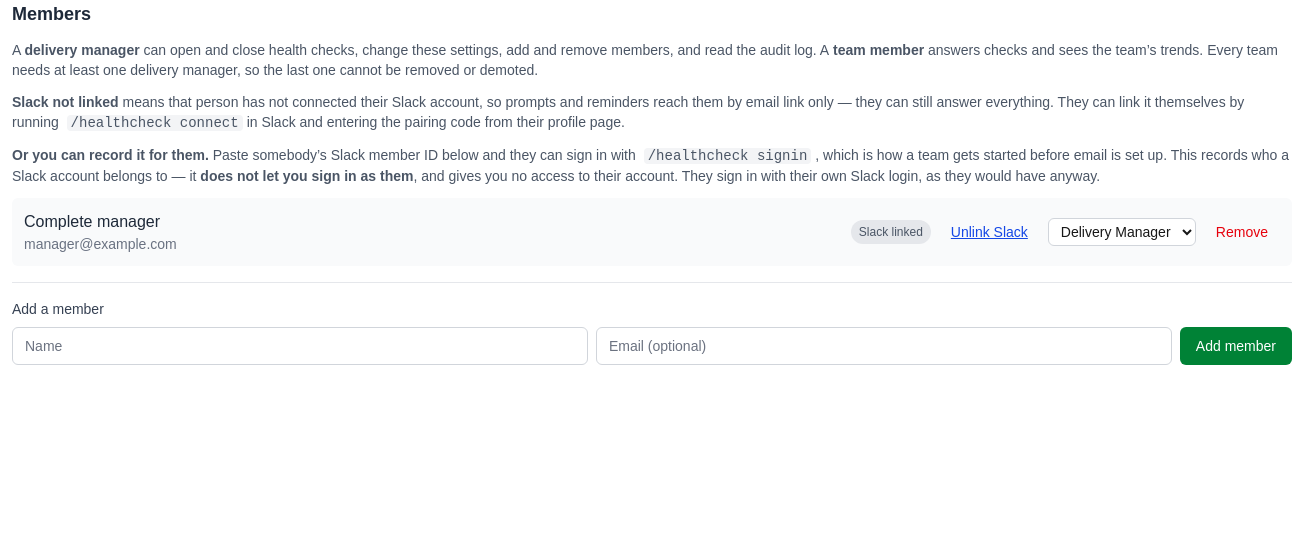
Test: MembersSection contract hardening › shows structured role and remove errors without changing members
Select "Team Member" in the dropdown: [1122, 232] box top-left (1048, 218), bottom-right (1196, 246)
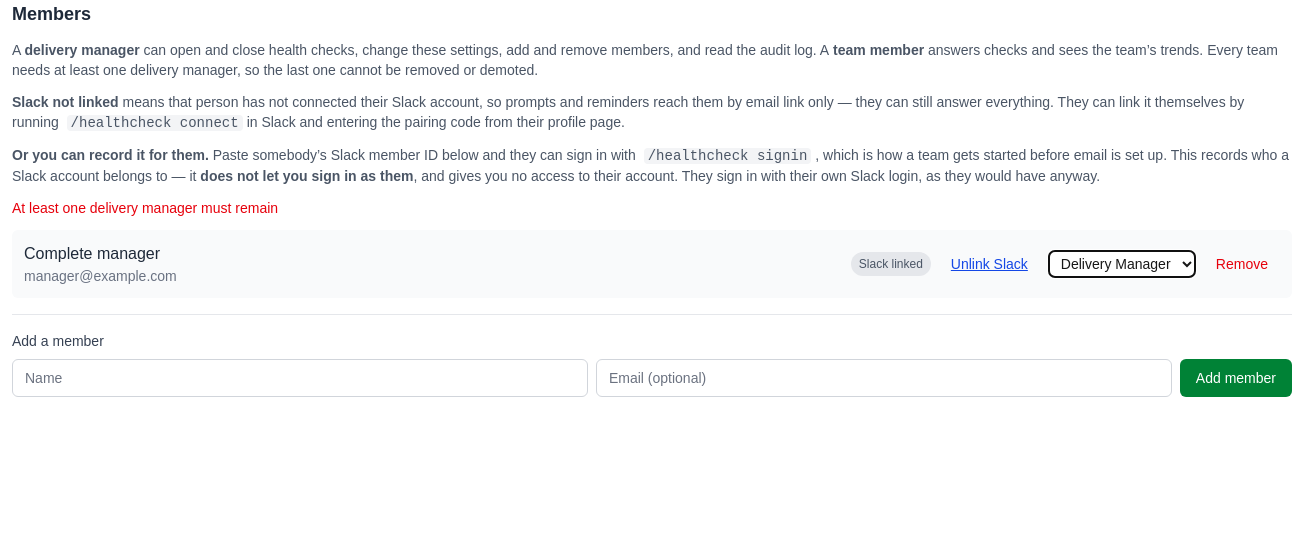
expect the message reads "At least one delivery manager must remain": met, box top-left (12, 200), bottom-right (278, 216)
Click the button "Remove": [1242, 264] box top-left (1204, 250), bottom-right (1280, 278)
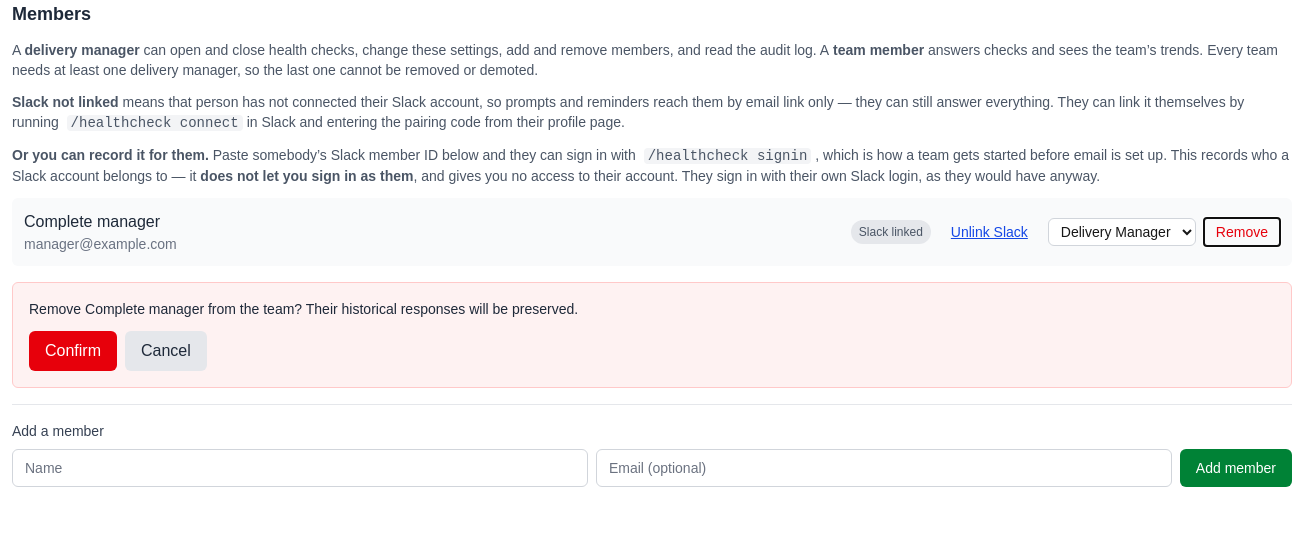
Click the button "Confirm": [73, 351] box top-left (29, 331), bottom-right (117, 371)
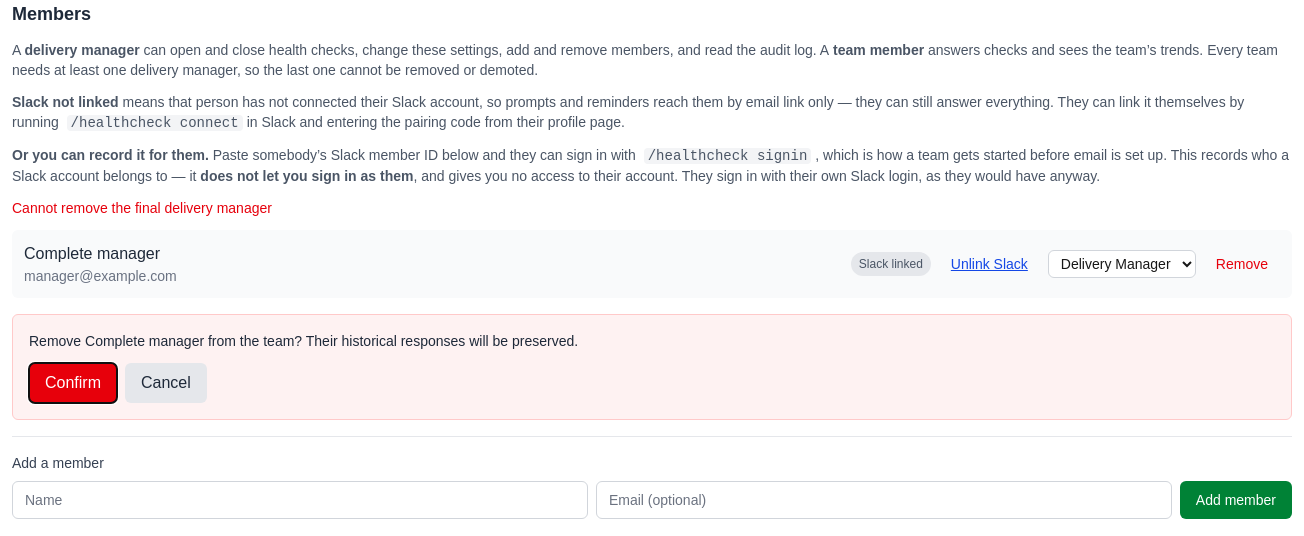
expect the message reads "Cannot remove the final delivery manager": met, box top-left (12, 200), bottom-right (272, 216)
